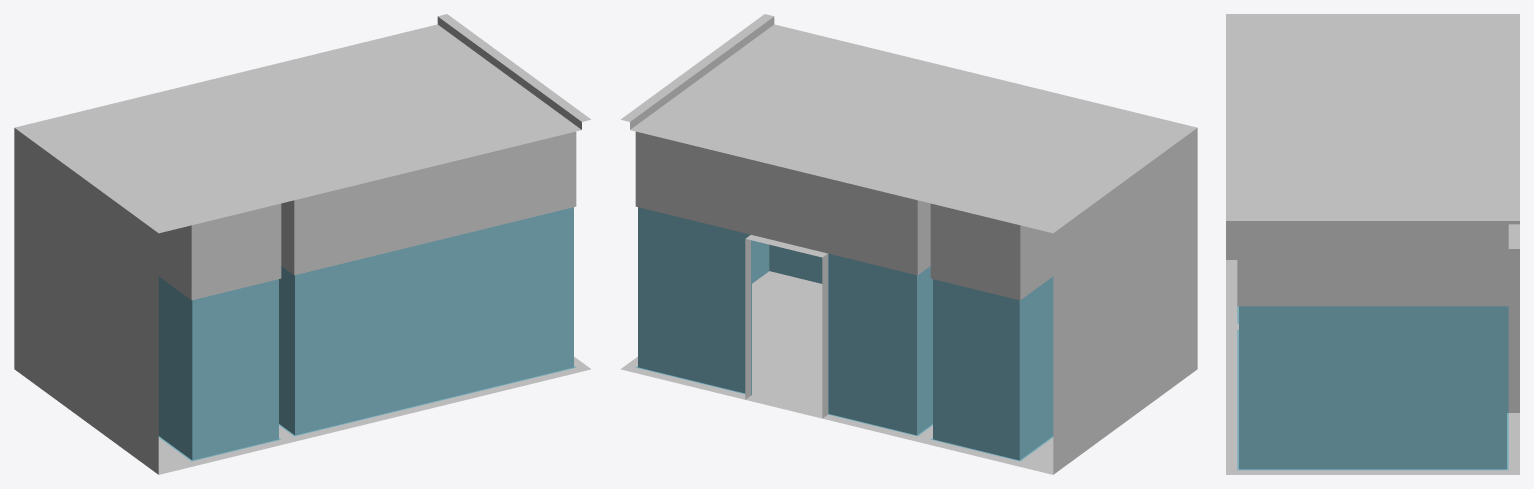
The model's file is BañoChicos.fbx.
3 renders of one model, left to right at view 1: azimuth 30°, elevation 25°; view 2: azimuth 150°, elevation 25°; view 3: azimuth 270°, elevation 25°, orthographic.
Parts seen in each view (by area): view 1: BañoChicos; view 2: BañoChicos; view 3: BañoChicos.
Part boxes in pixels (box(x1,y1,x2,y2)): BañoChicos: box(14, 14, 590, 474); BañoChicos: box(621, 14, 1197, 474); BañoChicos: box(1226, 14, 1519, 474).
Bounding box in the file's own units: 562 × 310 × 325.
